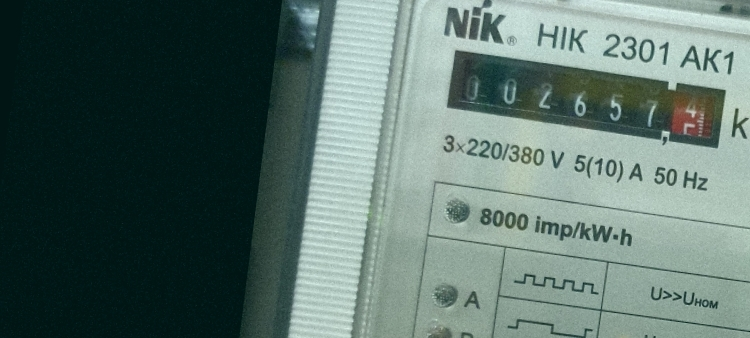0: (462, 71, 482, 101), (500, 73, 518, 105)
2: (535, 79, 555, 110)
4: (682, 91, 700, 118)
5: (606, 90, 625, 122), (680, 120, 697, 136)
6: (571, 86, 589, 117)
7: (641, 95, 660, 128)
screen: (435, 37, 738, 160)
